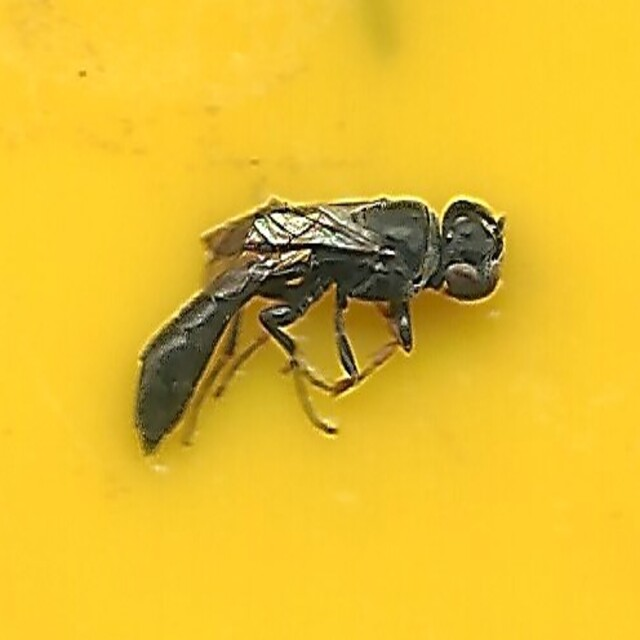Hymenoptera: (129, 187, 511, 453)
